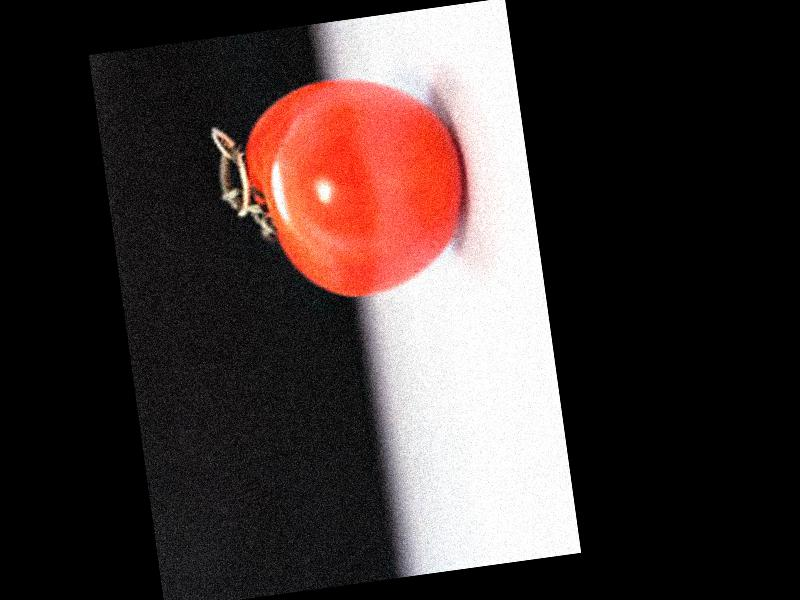Tomato: (235, 63, 477, 310)
